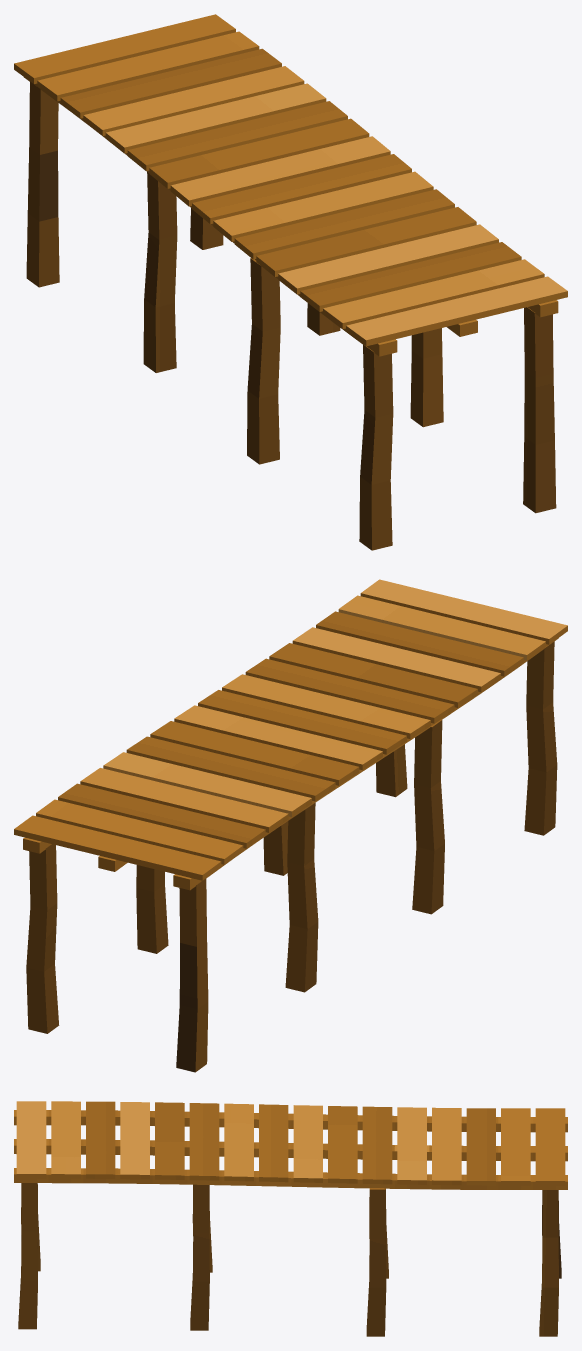
The model's file is Dermaga.fbx.
3 renders of one model, top to bottom at view 1: azimuth 30°, elevation 25°; view 2: azimuth 150°, elevation 25°; view 3: azimuth 270°, elevation 25°, orthographic. The views are drawn at different scales.
Parts seen in each view (by area): view 1: Plane.027; view 2: Plane.027; view 3: Plane.027.
Boxes of the visible parts, x1=… form: Plane.027: x1=14, y1=14, x2=567, y2=550; Plane.027: x1=14, y1=579, x2=567, y2=1072; Plane.027: x1=14, y1=1101, x2=567, y2=1336.
Size of the model in its own units: 151 by 140 by 443.
